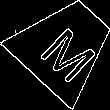M_NE: (31, 12, 99, 79)
